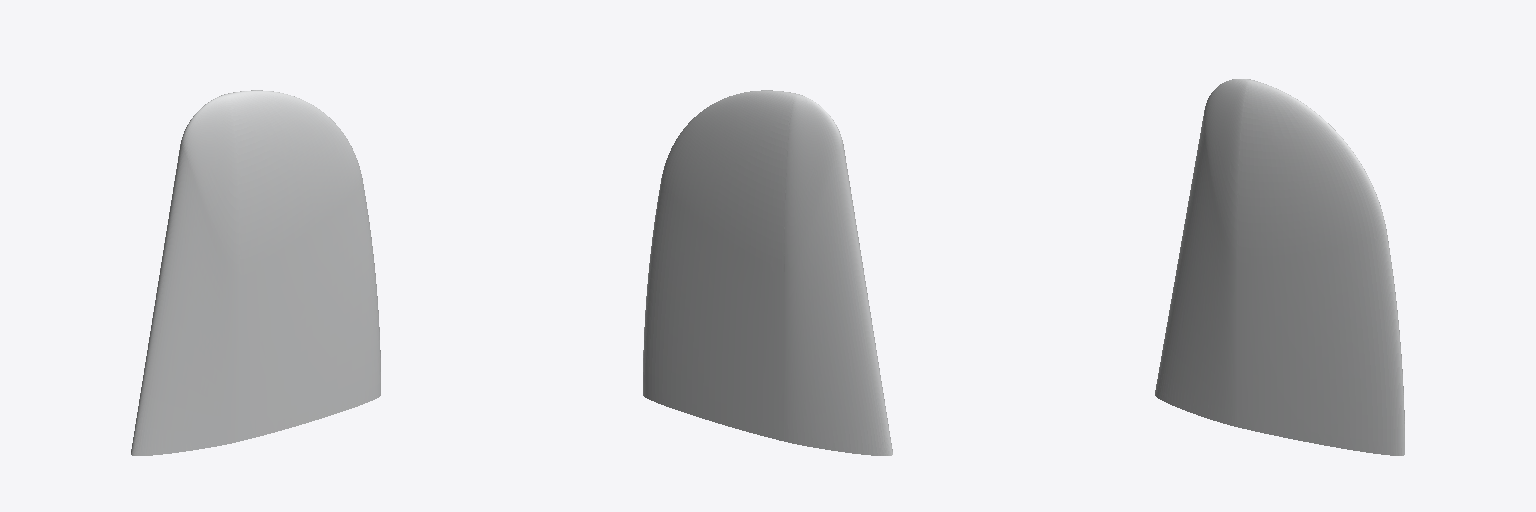
Rendered from wing_section.obj.
3 views of the same model, side by side, from view 1: azimuth 30°, elevation 25°; view 2: azimuth 150°, elevation 25°; view 3: azimuth 330°, elevation 25° (orthographic).
Parts seen in each view (by area): view 1: mesh2, mesh0; view 2: mesh4, mesh3; view 3: mesh2, mesh0.
Boxes of the visible parts, box(x1,y1,x2,y2) form: mesh2: box(227, 91, 380, 440); mesh0: box(131, 94, 239, 455); mesh4: box(643, 91, 796, 440); mesh3: box(784, 94, 892, 455); mesh2: box(1237, 80, 1404, 455); mesh0: box(1155, 79, 1249, 426).
Bounding box in the file's own units: 1.08 × 1.4 × 0.2.